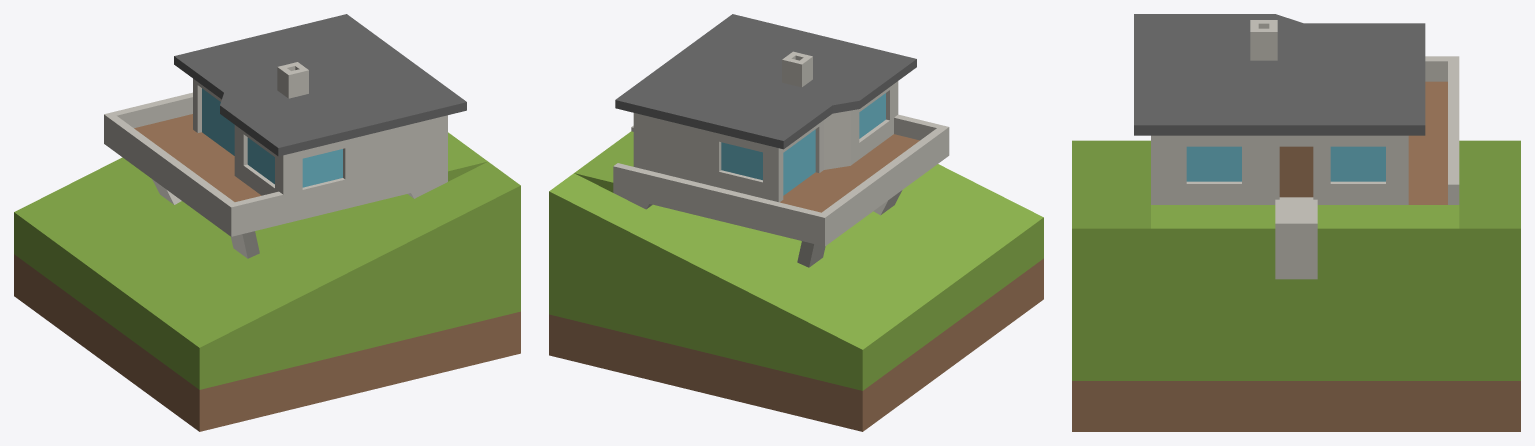
The model's file is building2.glb.
3 renders of one model, left to right at view 1: azimuth 30°, elevation 25°; view 2: azimuth 150°, elevation 25°; view 3: azimuth 270°, elevation 25°, orthographic. The views are drawn at different scales.
Parts seen in each view (by area): view 1: Asset3DLoader.sceneRoot; view 2: Asset3DLoader.sceneRoot; view 3: Asset3DLoader.sceneRoot.
Part boxes in pixels (left/top/right/bottom): Asset3DLoader.sceneRoot: left=14, top=14, right=520, bottom=431; Asset3DLoader.sceneRoot: left=549, top=14, right=1043, bottom=431; Asset3DLoader.sceneRoot: left=1072, top=14, right=1520, bottom=431.
Bounding box in the file's own units: 2.5 × 1.96 × 2.5.
Materials: 1 (1 with a texture image).
